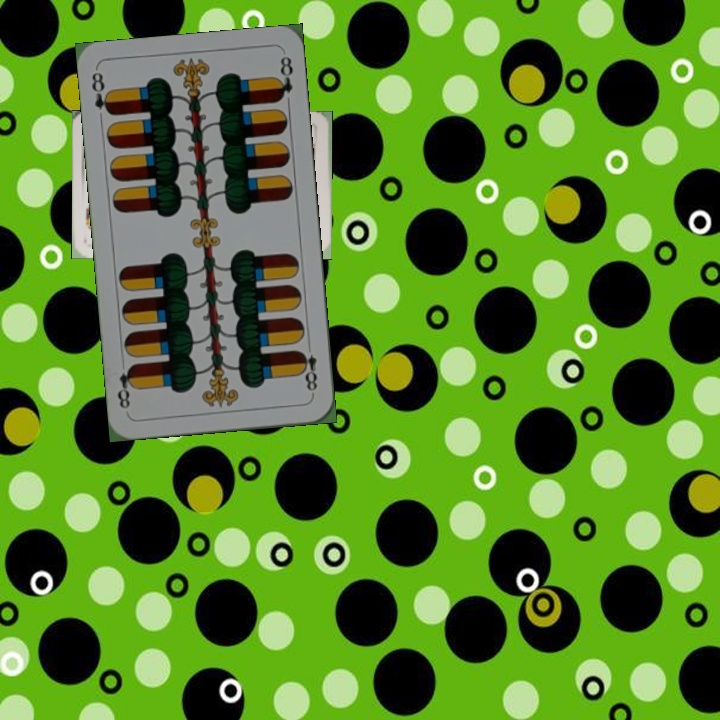E8: (295, 339, 320, 398), (87, 68, 115, 118)
